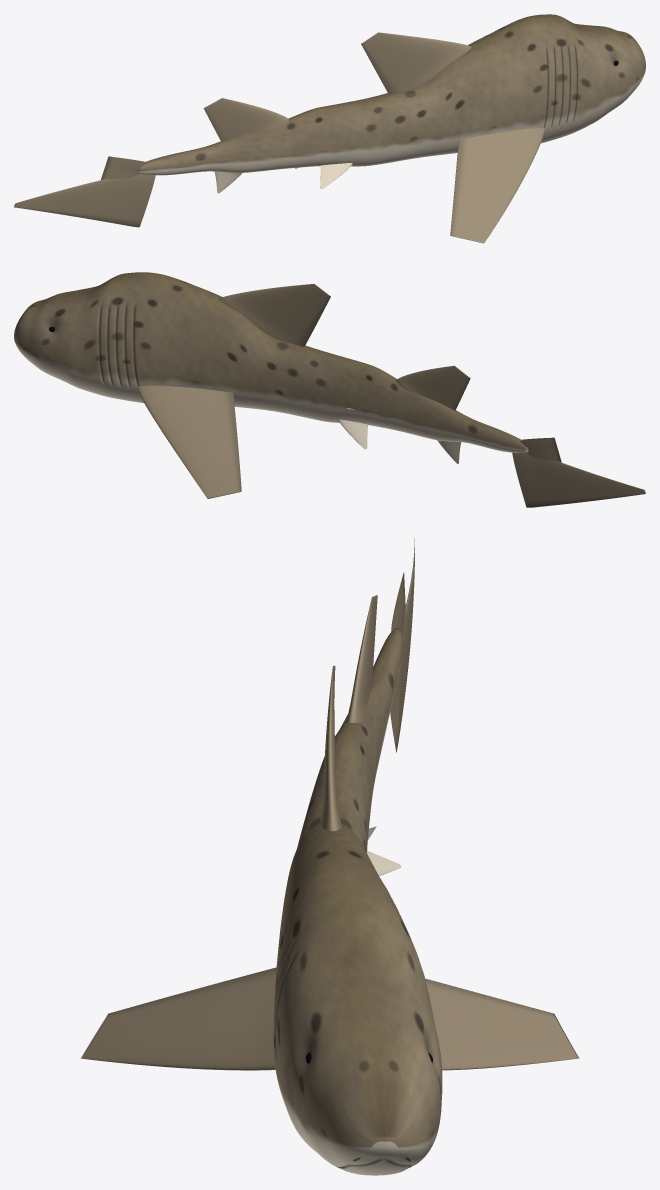
File: horn_shark.glb
3 renders of one model, top to bottom at view 1: azimuth 30°, elevation 25°; view 2: azimuth 150°, elevation 25°; view 3: azimuth 270°, elevation 25°, orthographic. The views are drawn at different scales.
Parts seen in each view (by area): view 1: horn_shark_Body, horn_shark_Fins; view 2: horn_shark_Body, horn_shark_Fins; view 3: horn_shark_Body, horn_shark_Fins.
Part boxes in pixels (<box>): horn_shark_Body: <box>137,14,645,175</box>; horn_shark_Fins: <box>14,32,545,243</box>; horn_shark_Body: <box>14,272,528,452</box>; horn_shark_Fins: <box>137,284,645,507</box>; horn_shark_Body: <box>273,628,442,1175</box>; horn_shark_Fins: <box>80,538,579,1070</box>.
Size of the model in its own units: 1 by 0.27 by 0.3479.
3 materials, 1 textured.
